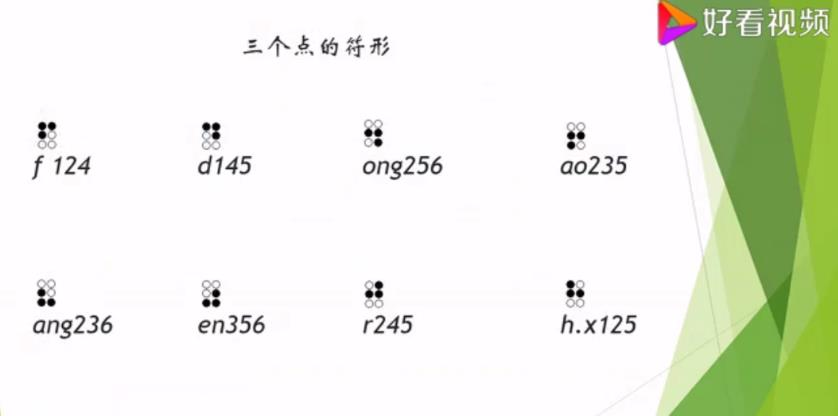Braille: (37, 121, 58, 151), (201, 279, 222, 309), (566, 121, 587, 151), (565, 279, 586, 309), (201, 122, 222, 151), (37, 278, 57, 308), (364, 118, 384, 148), (364, 280, 384, 309)
